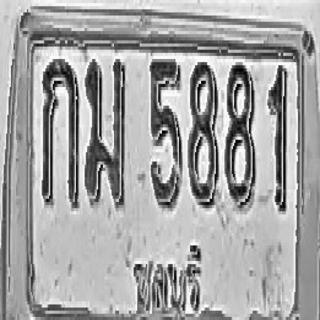A01: (41, 56, 79, 208)
A33: (84, 54, 125, 207)
N01: (267, 62, 287, 211)
N05: (150, 56, 182, 208)
N08: (225, 60, 256, 206), (188, 57, 218, 207)
P13: (127, 242, 207, 315)
